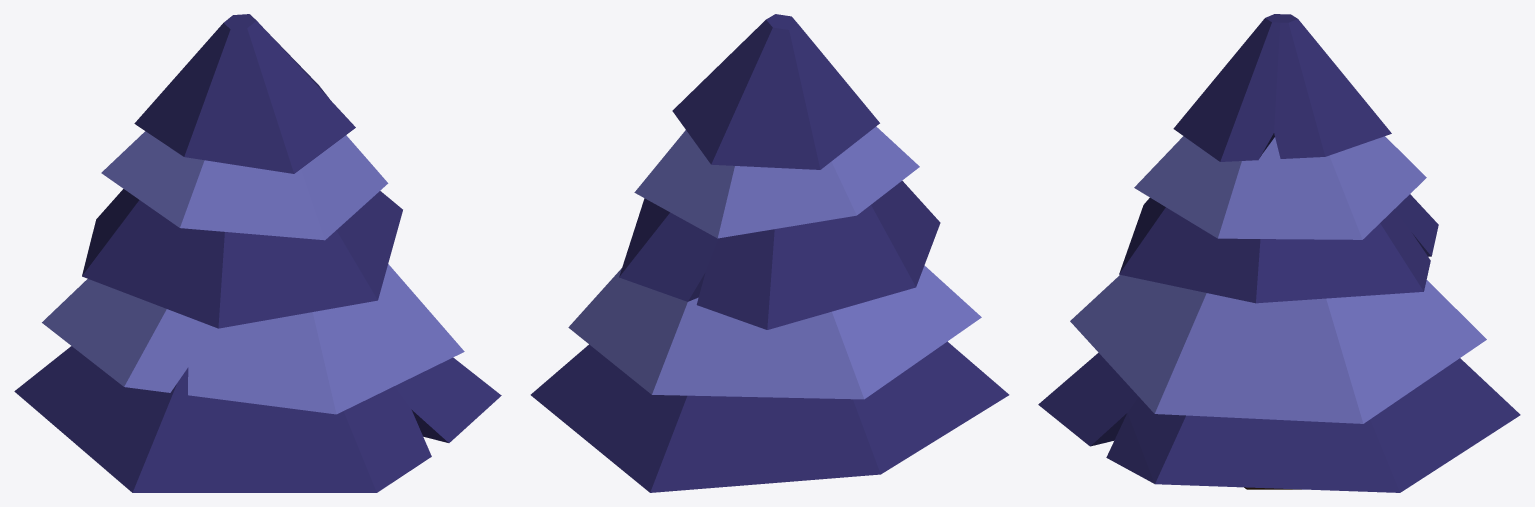
The model's file is Tree7.1.fbx.
3 views of the same model, side by side, from view 1: azimuth 30°, elevation 25°; view 2: azimuth 150°, elevation 25°; view 3: azimuth 270°, elevation 25° (orthographic).
Visible parts, largest first — view 1: Cylinder.030; view 2: Cylinder.030; view 3: Cylinder.030.
Boxes of the visible parts, x1=… form: Cylinder.030: x1=14, y1=14, x2=501, y2=492; Cylinder.030: x1=530, y1=14, x2=1009, y2=492; Cylinder.030: x1=1038, y1=14, x2=1520, y2=492.
Bounding box in the file's own units: 488 × 569 × 563.
3 materials, 3 textured.
